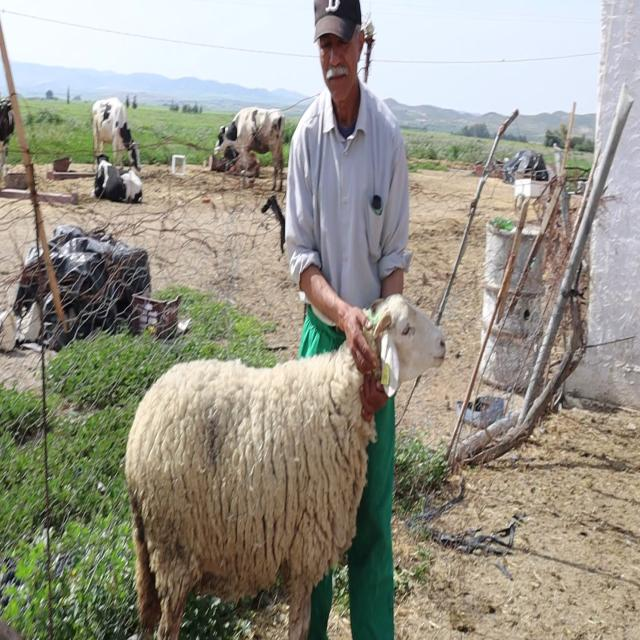Score_3: (125, 294, 446, 639)
